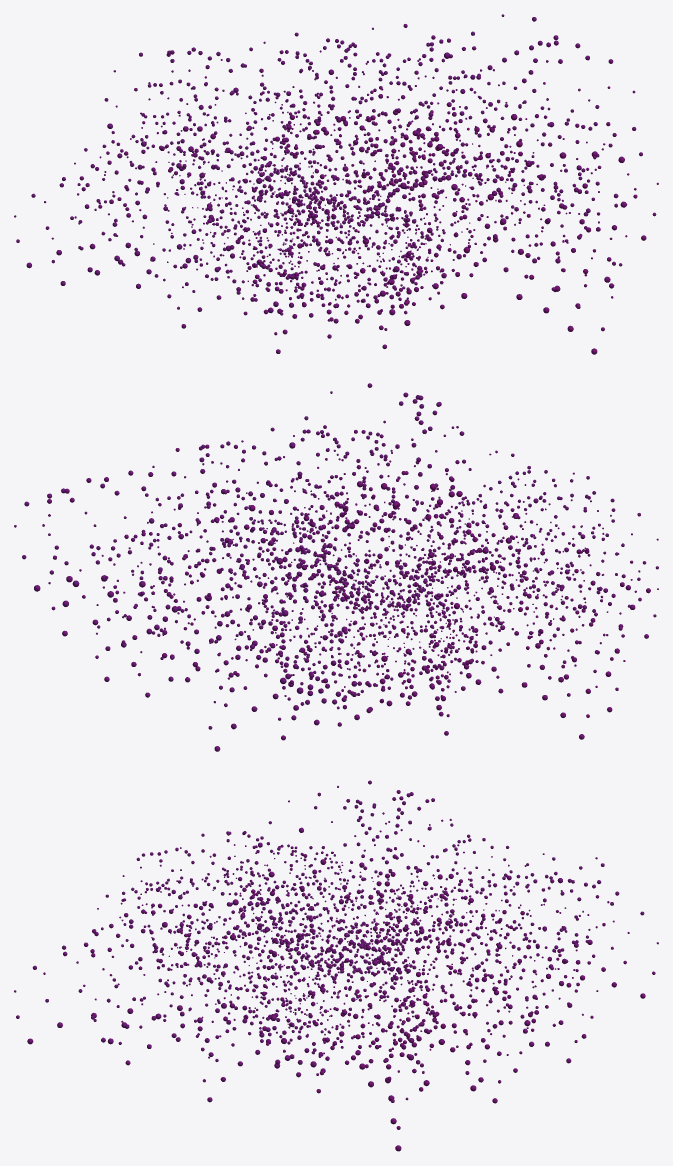
Rendered from BerryBush_LOD2.fbx.
The picture shows the model from 3 angles, top to bottom: view 1: azimuth 30°, elevation 25°; view 2: azimuth 150°, elevation 25°; view 3: azimuth 270°, elevation 25°; orthographic projection. The views are drawn at different scales.
Visible parts, largest first — view 1: Bush; view 2: Bush; view 3: Bush.
Boxes of the visible parts, <box> form: Bush: <box>14,14,658,354</box>; Bush: <box>14,383,658,751</box>; Bush: <box>14,780,658,1151</box>.
Size of the model in its own units: 396 by 125 by 391.
